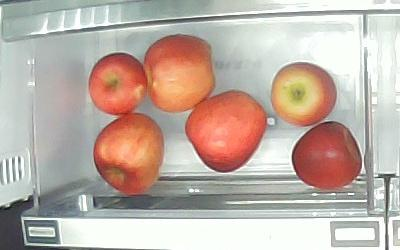apple: (184, 88, 267, 173), (93, 112, 165, 196), (143, 34, 216, 113), (290, 120, 362, 191), (270, 61, 337, 127), (87, 51, 148, 116)
